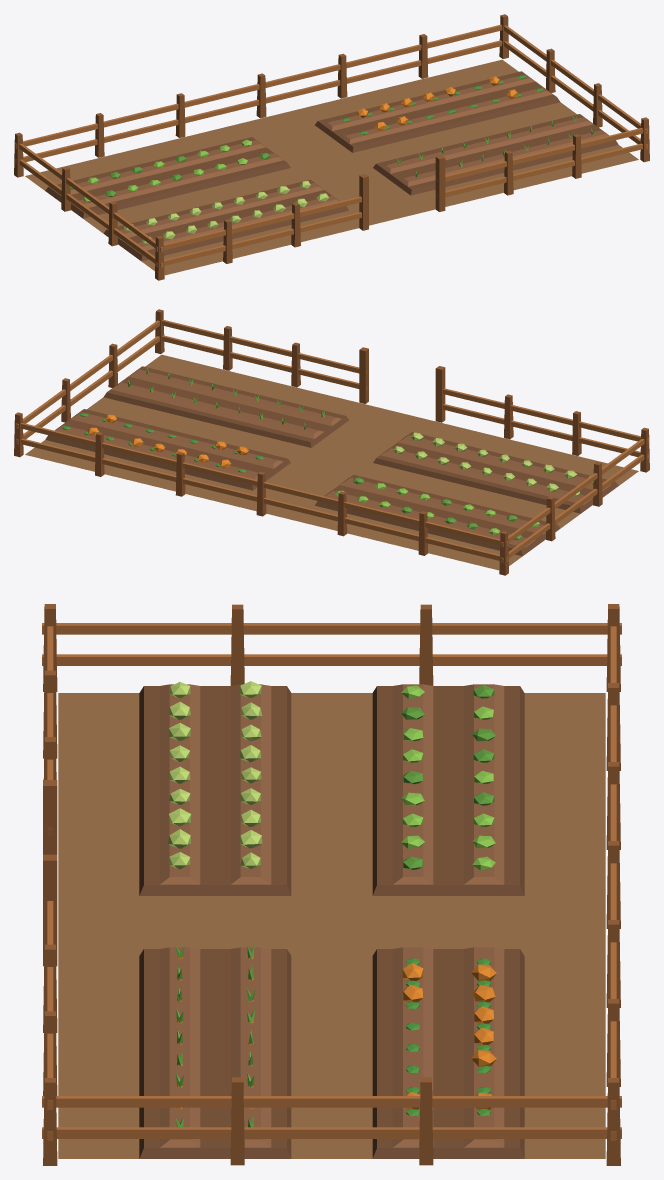
File: prop-chief-field.glb
3 views of the same model, one above another, from view 1: azimuth 30°, elevation 25°; view 2: azimuth 150°, elevation 25°; view 3: azimuth 270°, elevation 25° (orthographic). The views are drawn at different scales.
Parts seen in each view (by area): view 1: FarmField; view 2: FarmField; view 3: FarmField.
Part boxes in pixels (left/top/right/bottom): FarmField: left=14, top=14, right=649, bottom=280; FarmField: left=14, top=309, right=649, bottom=575; FarmField: left=42, top=604, right=621, bottom=1165.
Bounding box in the file's own units: 11.2 × 1.15 × 5.72.
